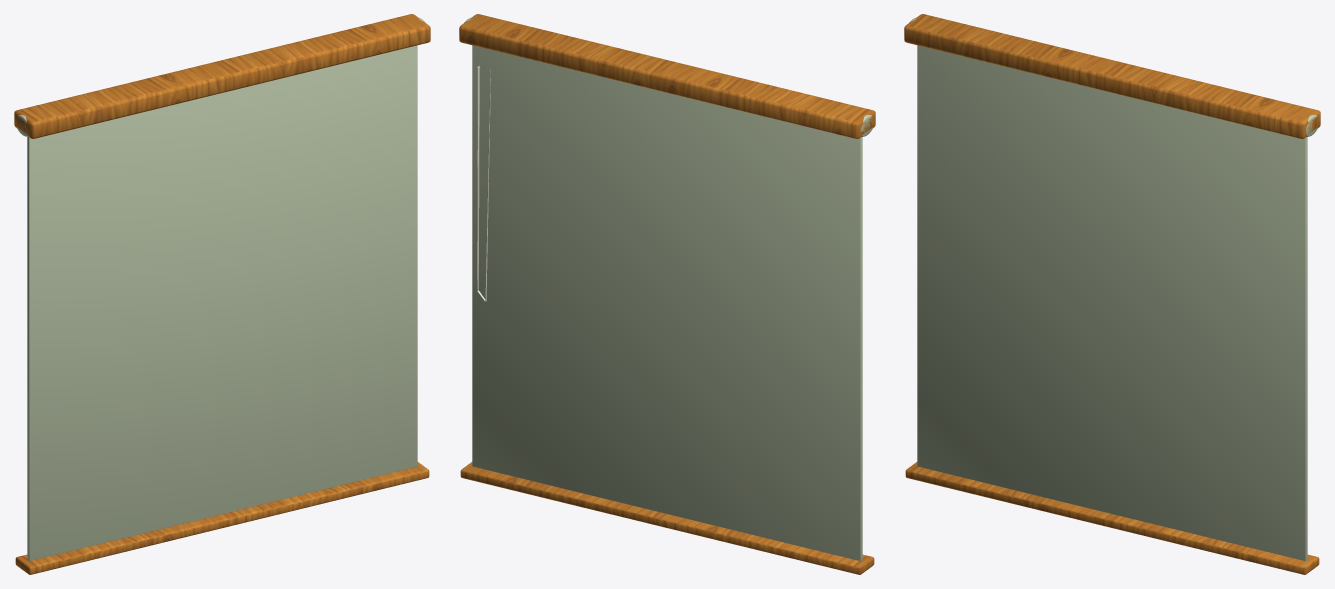
File: blind-roller.glb
The picture shows the model from 3 angles, left to right: view 1: azimuth 30°, elevation 25°; view 2: azimuth 150°, elevation 25°; view 3: azimuth 330°, elevation 25°; orthographic projection.
Parts seen in each view (by area): view 1: blind-roller; view 2: blind-roller; view 3: blind-roller.
Part boxes in pixels (box(x1,y1,x2,y2)): blind-roller: box(14, 14, 430, 574); blind-roller: box(459, 14, 875, 574); blind-roller: box(904, 14, 1320, 574).
Size of the model in its own units: 1.2 by 1.3 by 0.1.
3 materials, 1 textured.
